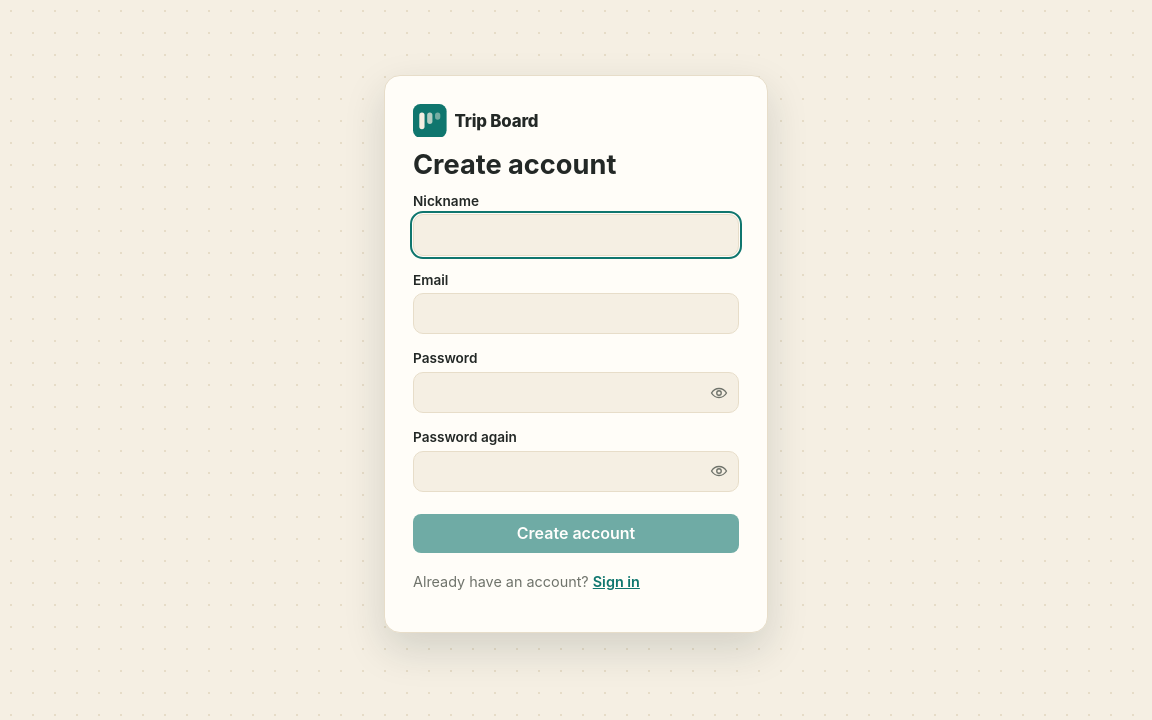
Scenario: submitting the sign-up form › complains on the confirmation box when the two differ
The width and height of the screenshot is (1152, 720).
Type "Ada" into the field labelled "Nickname". click: [576, 235]
box: [413,214,739,256]
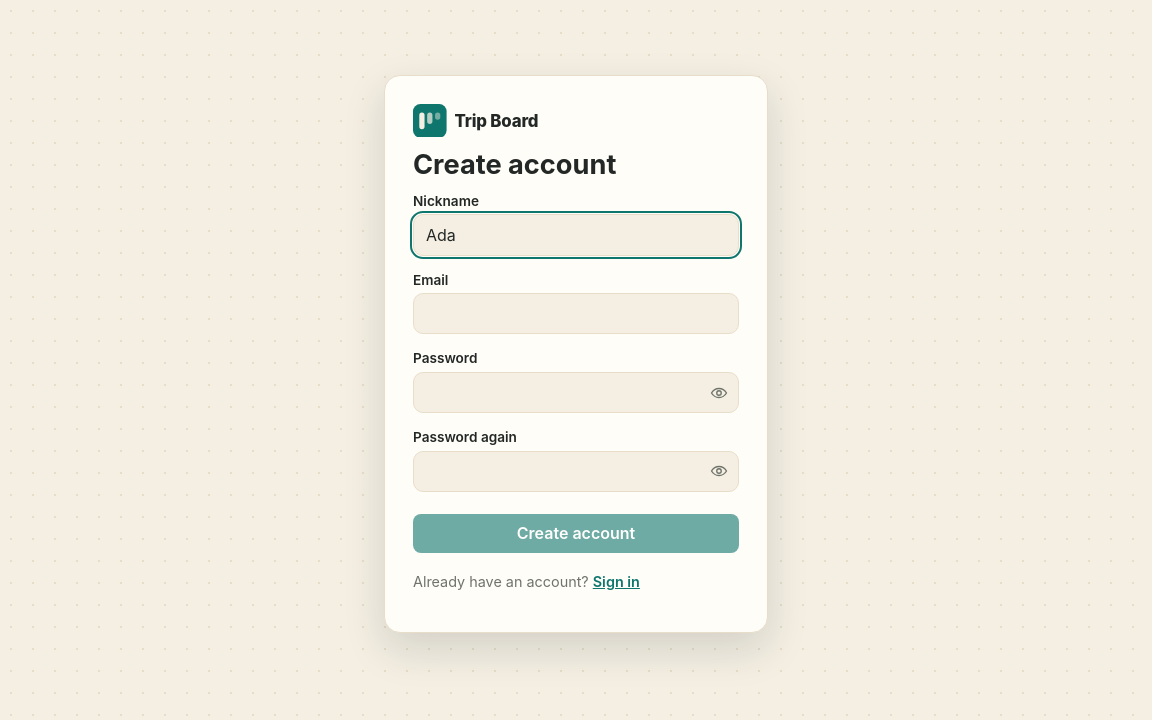
Type "ada@example.com" into the field labelled "Email". click: [576, 314]
box: [413,293,739,334]
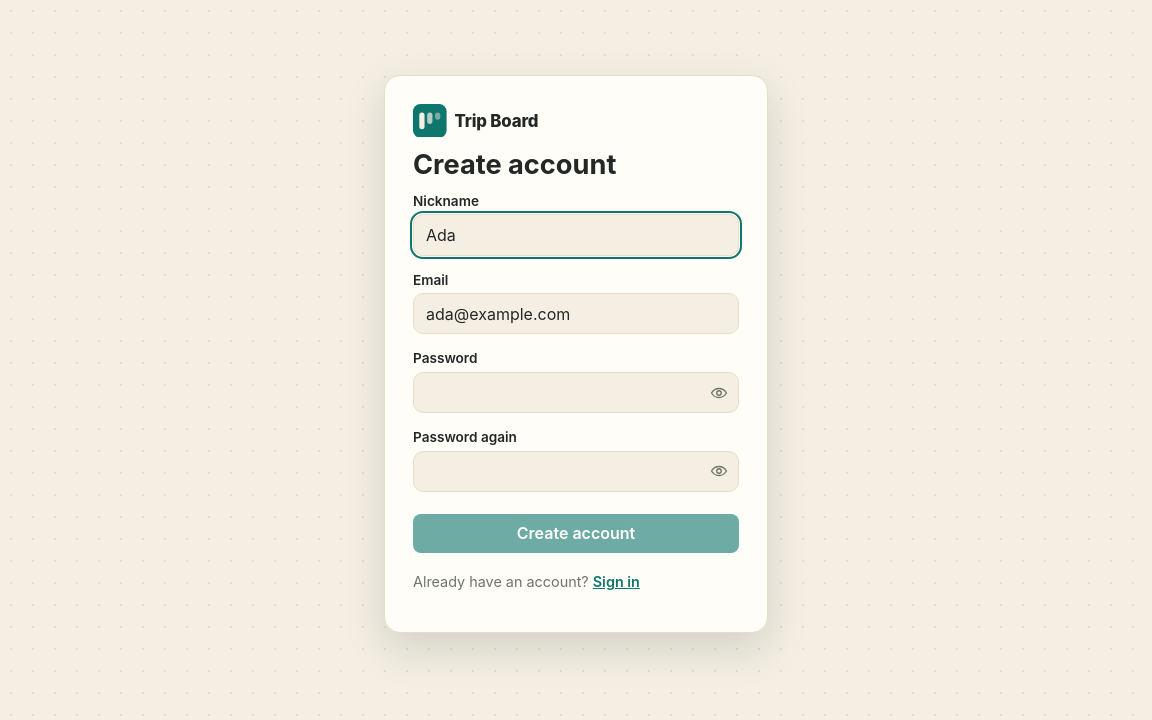
Type "Trip2026!" into the password field labelled "Password". click: [576, 393]
box: [413,372,739,413]
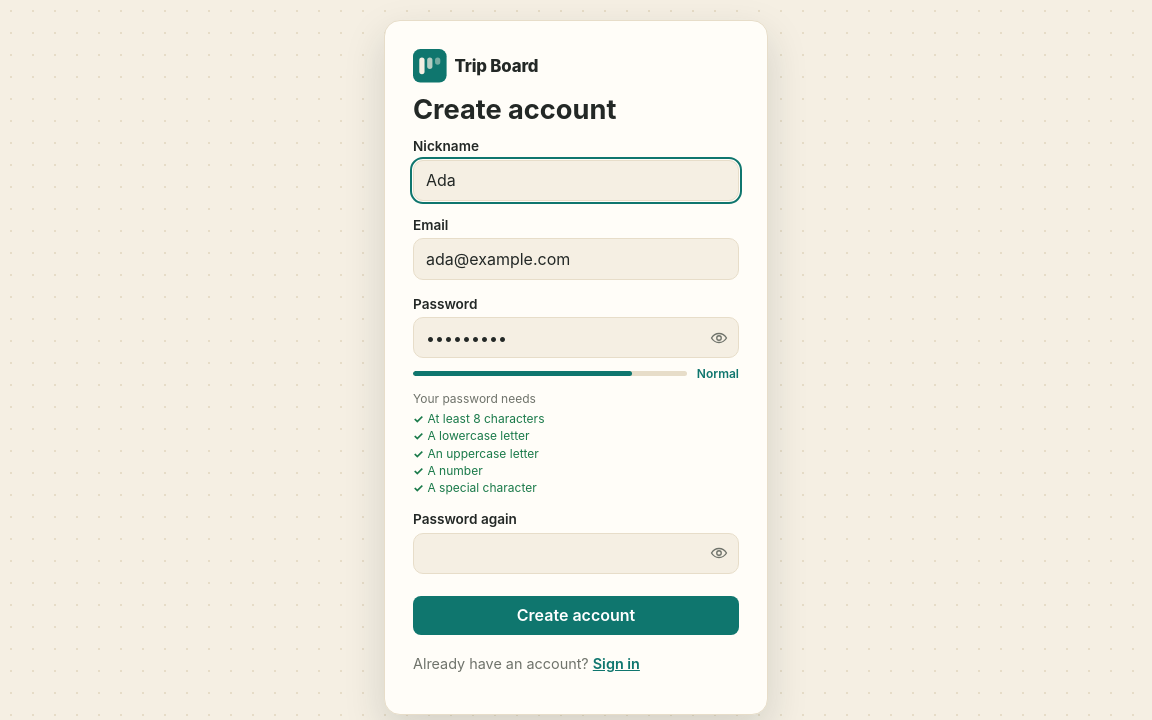
Type "Trip2026?" into the password field labelled "Password again". click: [576, 554]
box: [413,533,739,574]
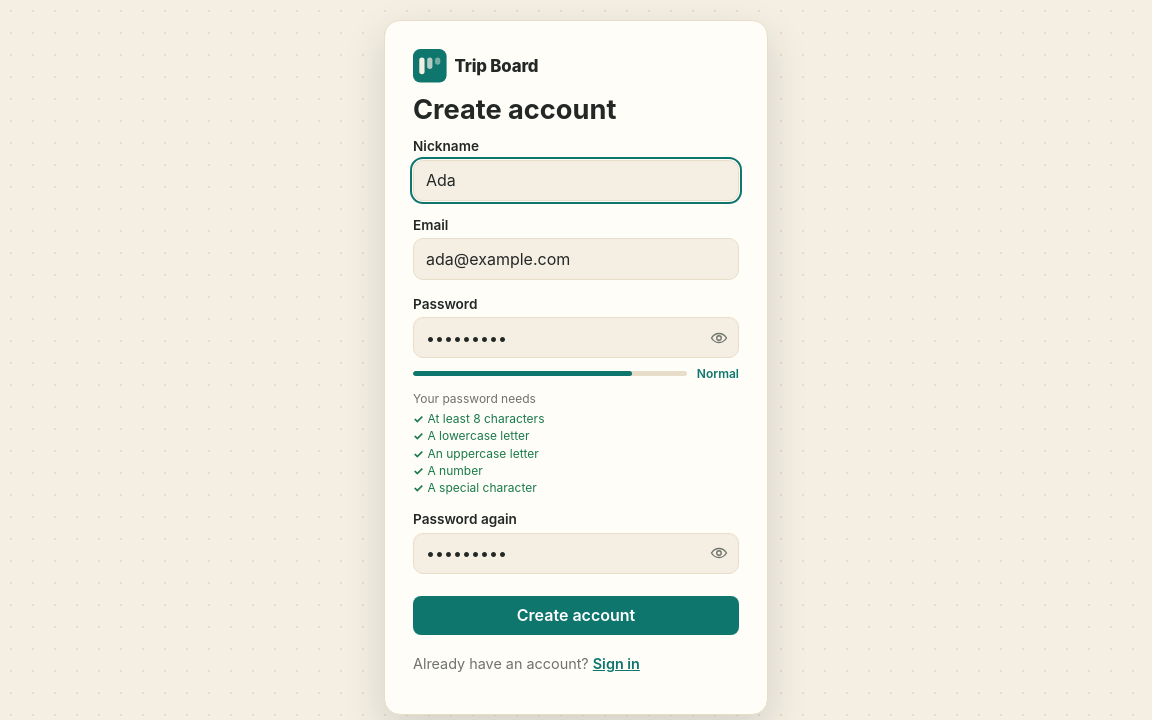
Click the button "Create account". click: [576, 615]
box: [413,596,739,635]
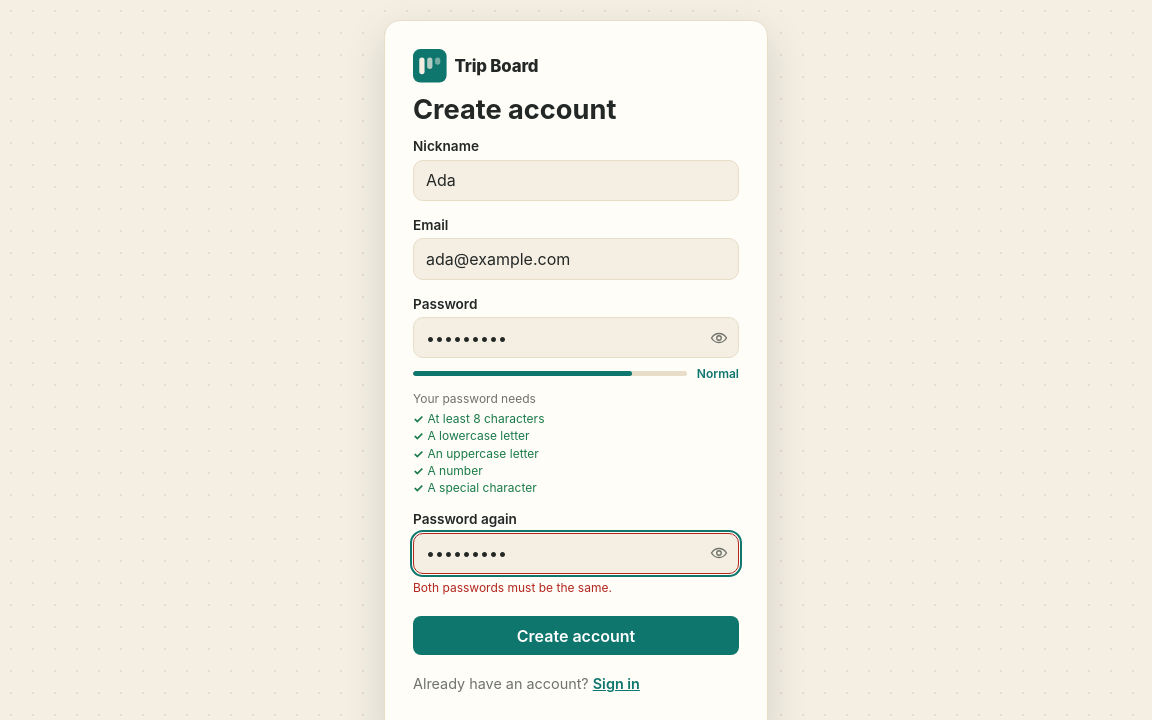
Now the text "Both passwords must be the same." is shown, box [413,580,612,595]
